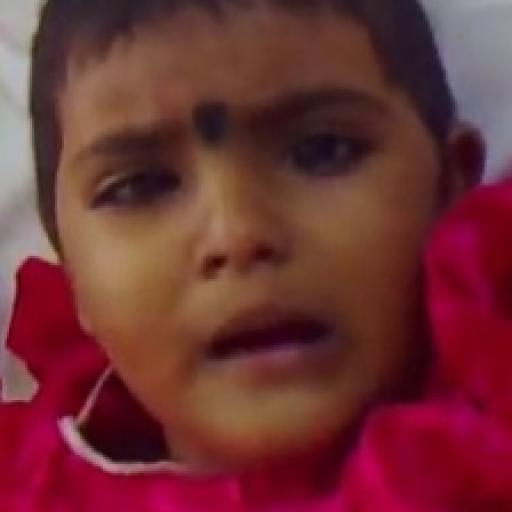Autism: (39, 19, 461, 474)
